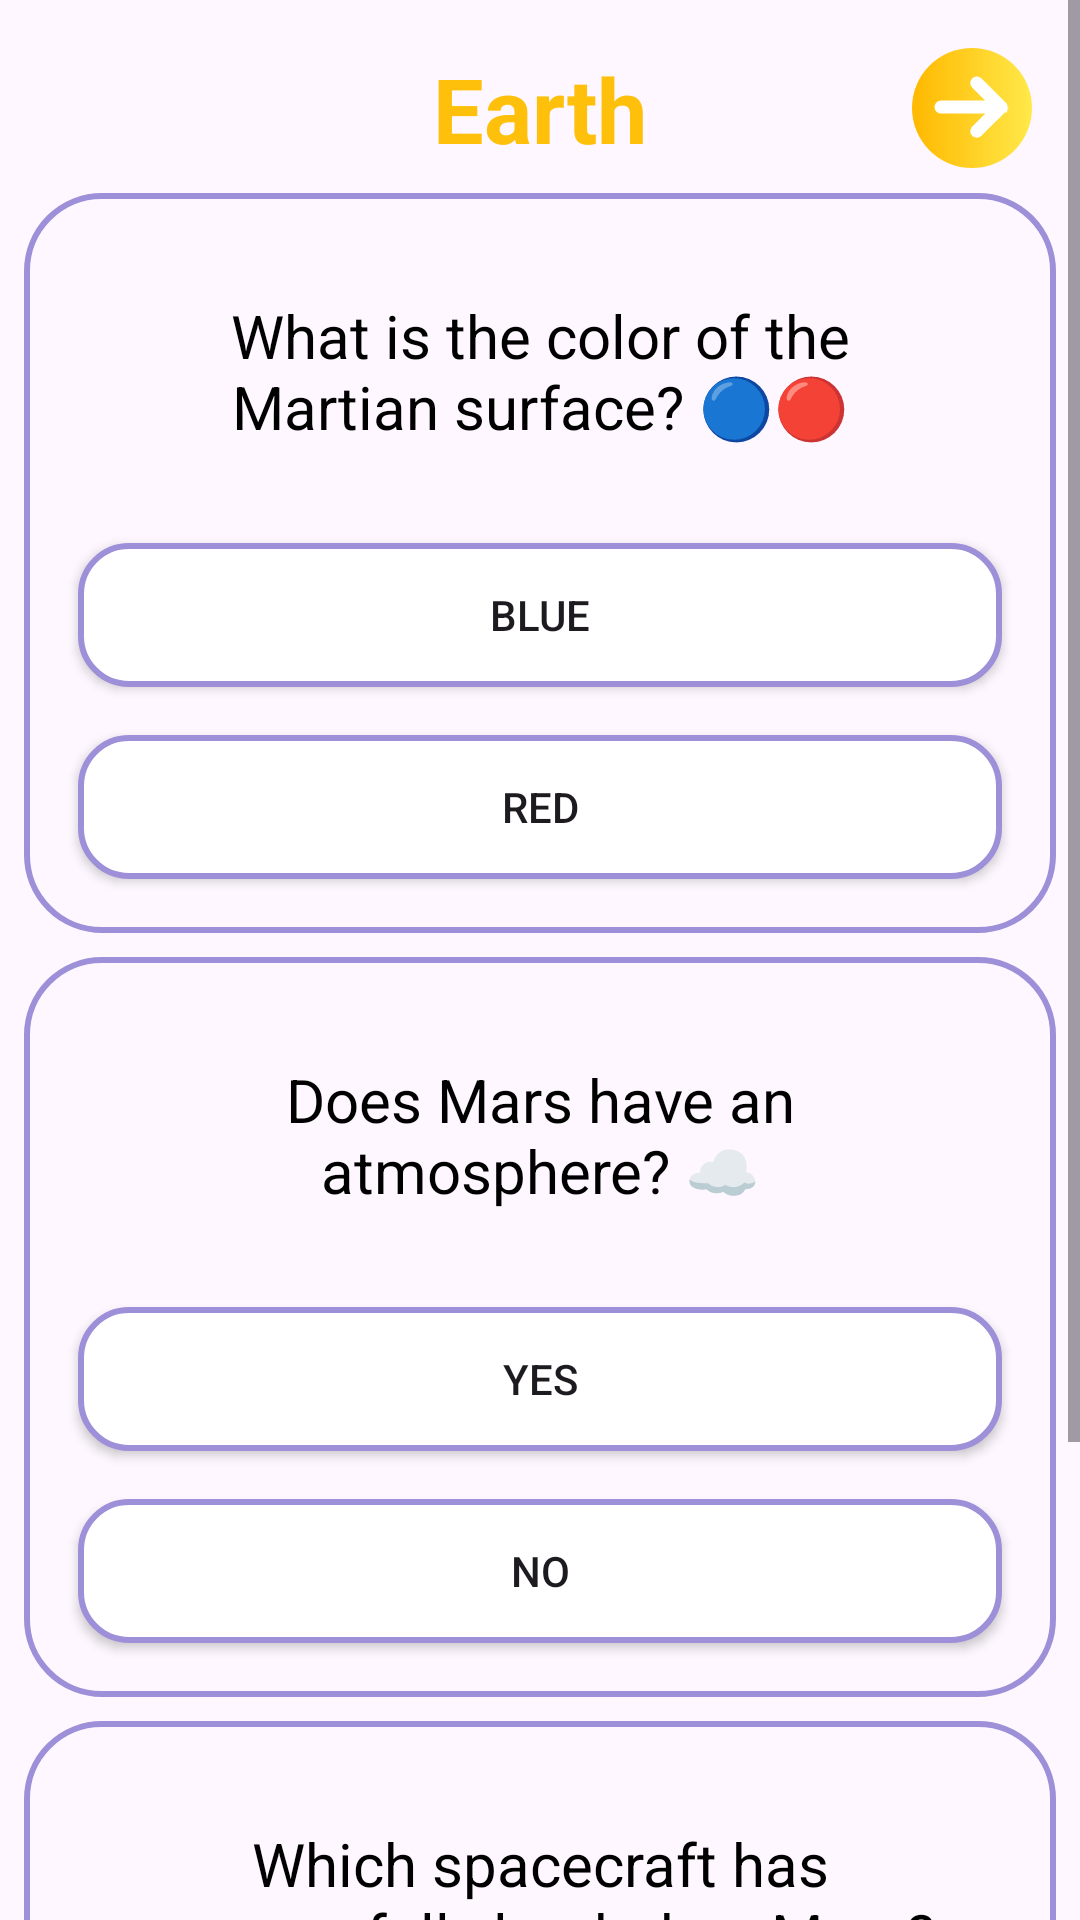

Icon bounding boxes for this 1080px x 1920px phone screenshot, format (x1, y1, x2, y2):
next: (912, 48, 1032, 168)
